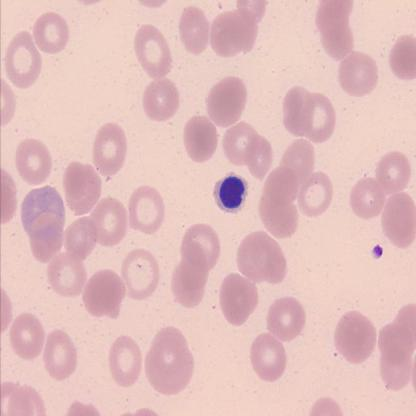NRC: (212, 170, 250, 215)
